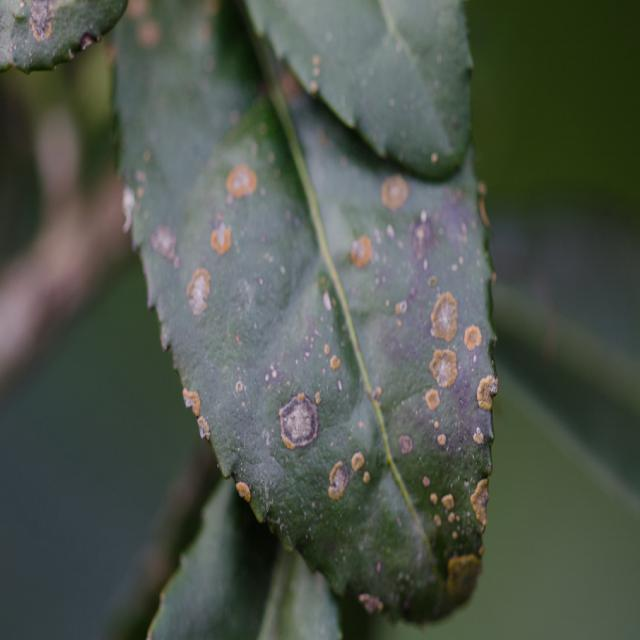Tea algae leaf spot: (126, 136, 506, 619)
